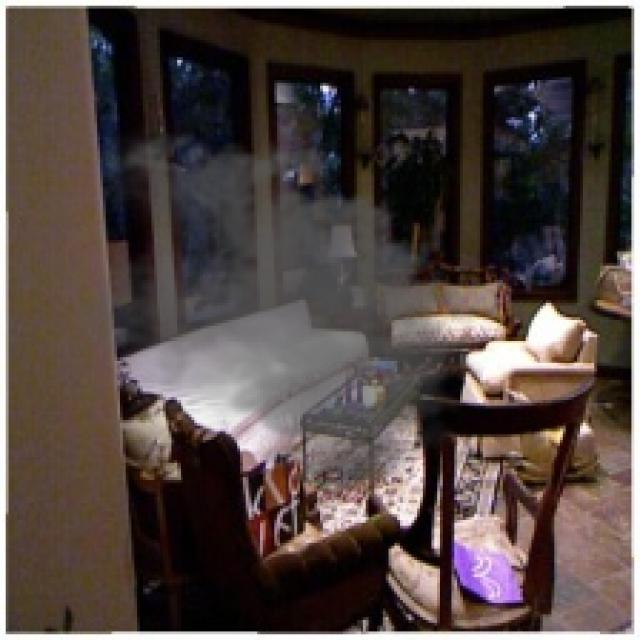smoke: (77, 120, 486, 489)
